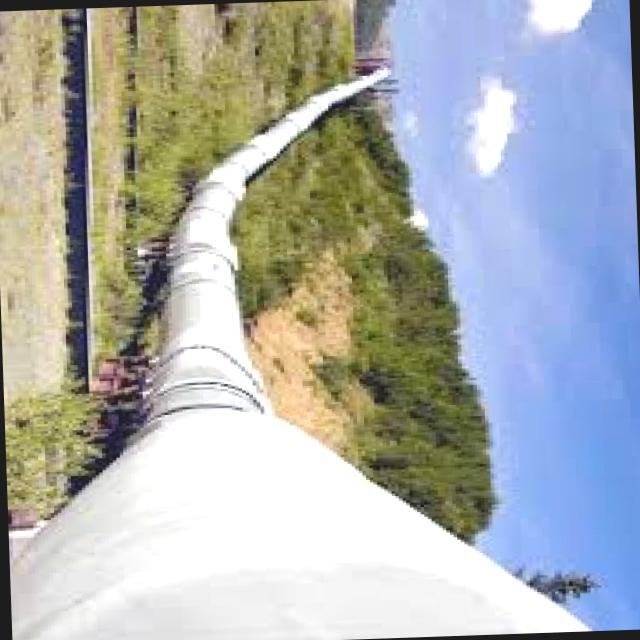gas: (10, 67, 590, 640)
